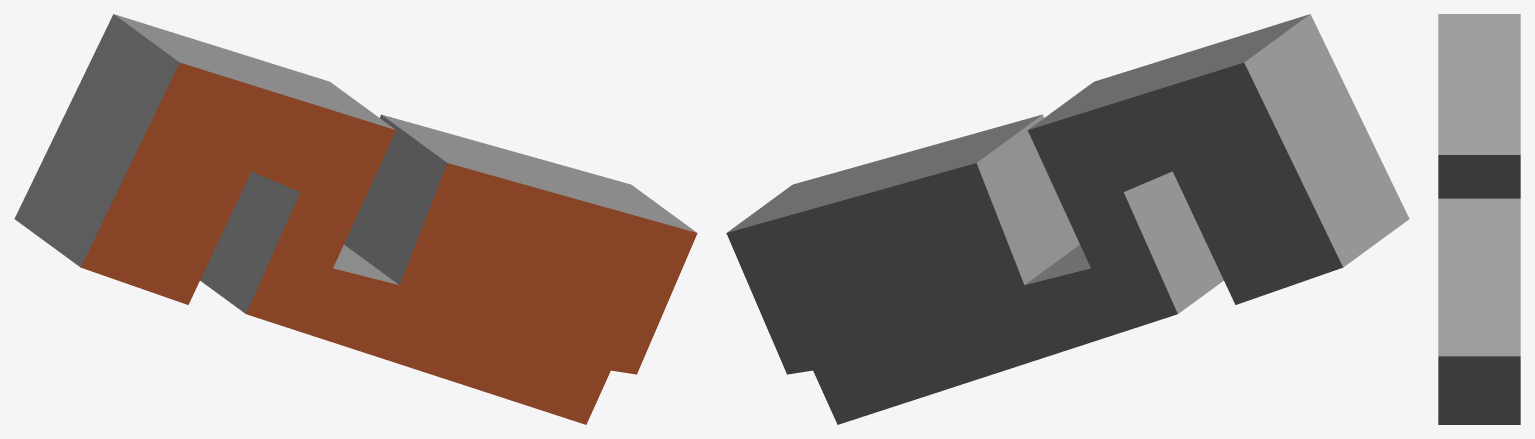
File: construction_6718_assumed_A_Casa_h6m.obj
3 views of the same model, side by side, from view 1: azimuth 30°, elevation 25°; view 2: azimuth 150°, elevation 25°; view 3: azimuth 270°, elevation 25° (orthographic). The views are drawn at different scales.
Parts seen in each view (by area): view 1: construction_6718_assumed_A_Casa; view 2: construction_6718_assumed_A_Casa; view 3: construction_6718_assumed_A_Casa.
Boxes of the visible parts, x1,y1,x2,y2 form: construction_6718_assumed_A_Casa: (14, 14, 697, 424); construction_6718_assumed_A_Casa: (726, 14, 1409, 424); construction_6718_assumed_A_Casa: (1438, 14, 1520, 424).
Bounding box in the file's own units: 32.21 × 23.03 × 6.
